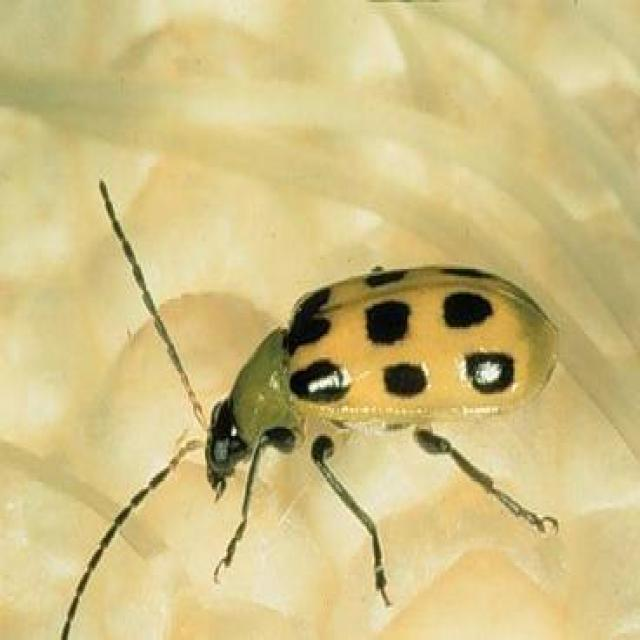gusano_verde: (63, 177, 562, 640)
